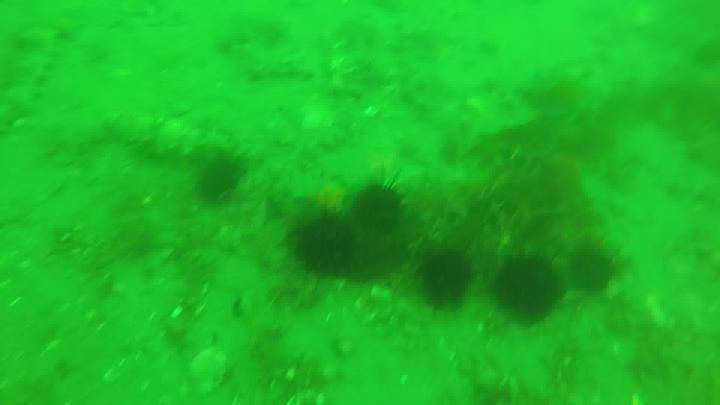echinus: (494, 254, 562, 322), (298, 207, 364, 275), (420, 240, 476, 318), (353, 181, 415, 239), (569, 247, 628, 299), (199, 158, 249, 201)
holothurian: (109, 110, 229, 162), (1, 30, 55, 140)
scallop: (192, 350, 227, 405)
